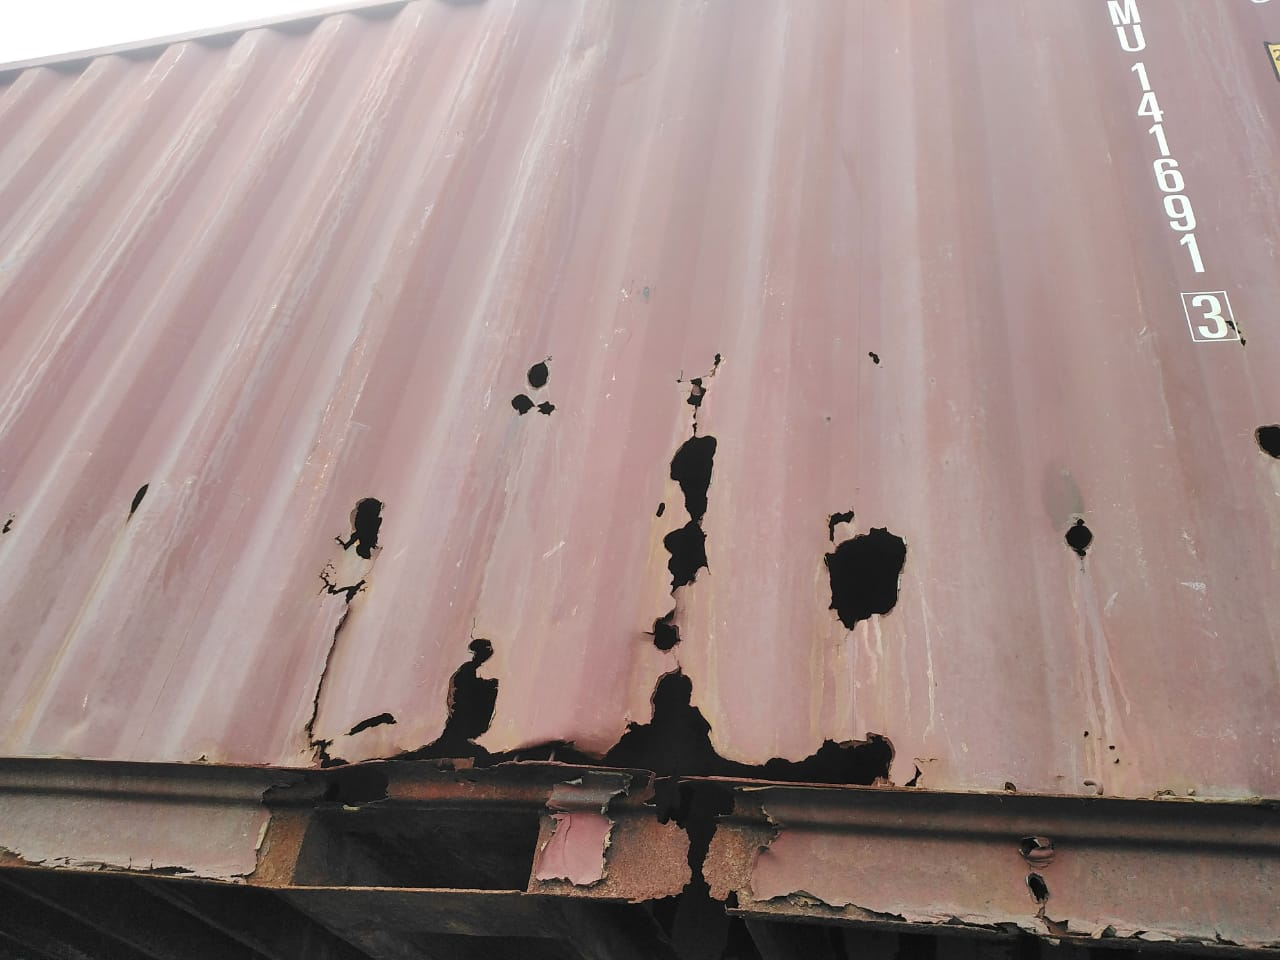cut: (336, 638, 947, 786), (636, 338, 768, 643), (304, 567, 361, 767), (113, 467, 166, 534)
hole: (807, 488, 930, 659), (492, 343, 585, 460), (1020, 492, 1145, 565), (309, 472, 401, 565), (1243, 410, 1280, 462)
